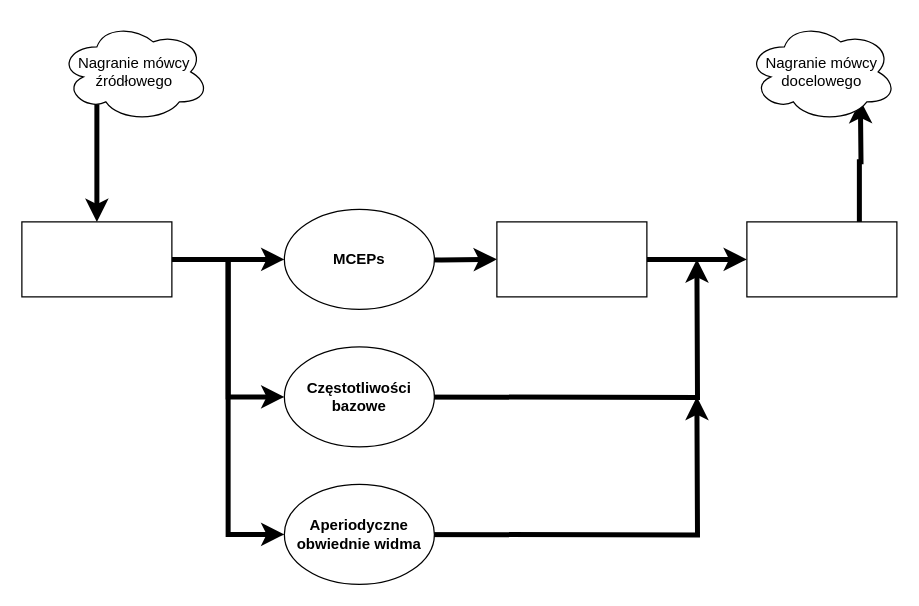
This 919x606 diagram has some shape labels left out. Each missing label, with the centre of its shape:
"model mapujący głos" belongs at (571,259).
"WORLD analyze API" belongs at (96,259).
"WORLD synthesize API" belongs at (821,259).
